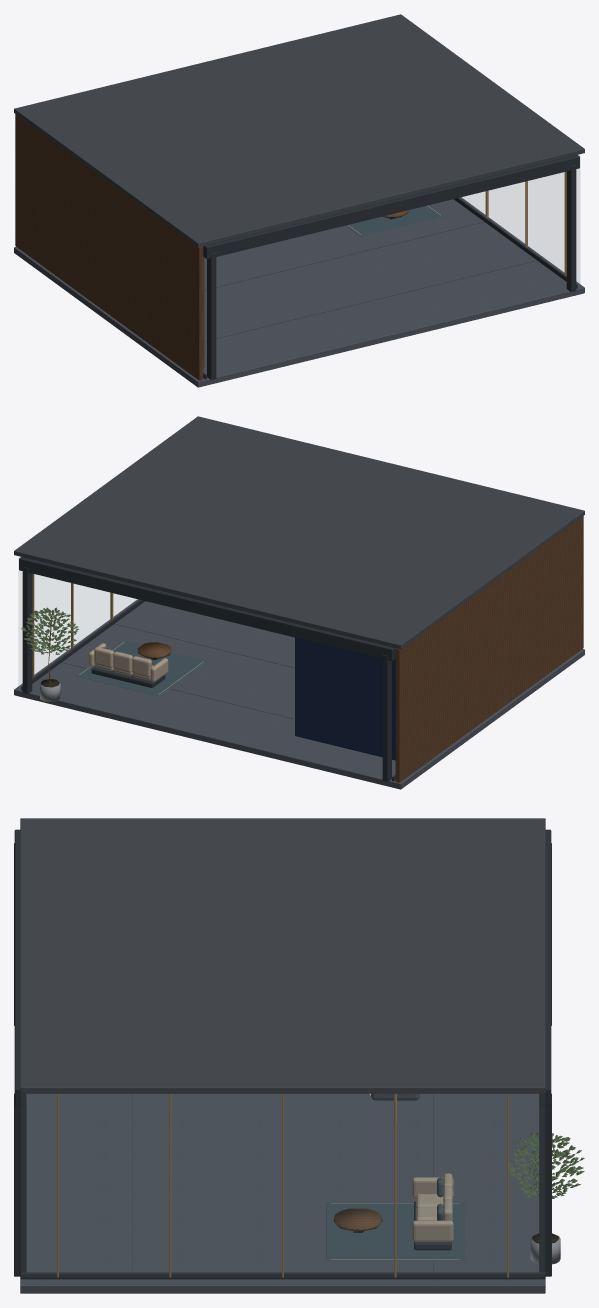
File: environment-0.glb
3 views of the same model, one above another, from view 1: azimuth 30°, elevation 25°; view 2: azimuth 150°, elevation 25°; view 3: azimuth 270°, elevation 25° (orthographic). The views are drawn at different scales.
Parts seen in each view (by area): view 1: Continuous floor slab; view 2: Continuous floor slab; view 3: Continuous floor slab.
Boxes of the visible parts, x1,y1,x2,y2 form: Continuous floor slab: [14, 14, 584, 387]; Continuous floor slab: [14, 416, 584, 789]; Continuous floor slab: [14, 818, 584, 1293].
Bounding box in the file's own units: 17 × 6.06 × 15.22.
Materials: 13 (4 with a texture image).
